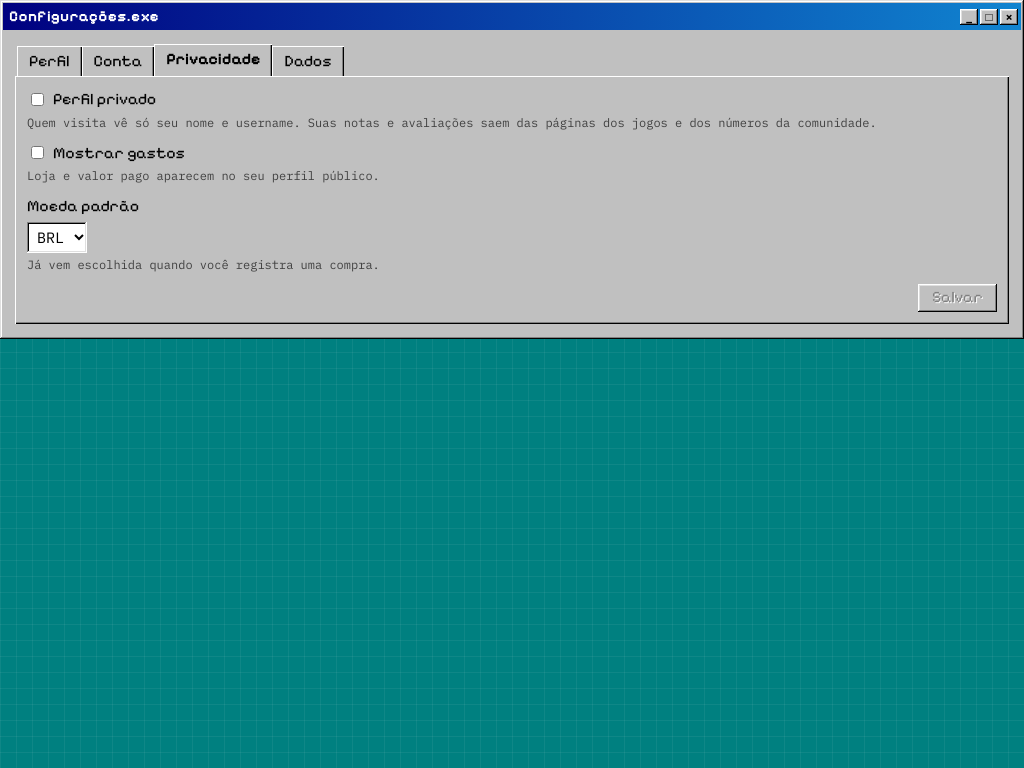
Test: SettingsView › Privacidade envia as três opções
Click the checkbox labelled "Perfil privado".
click(38, 100)  # box [31,93,44,106]
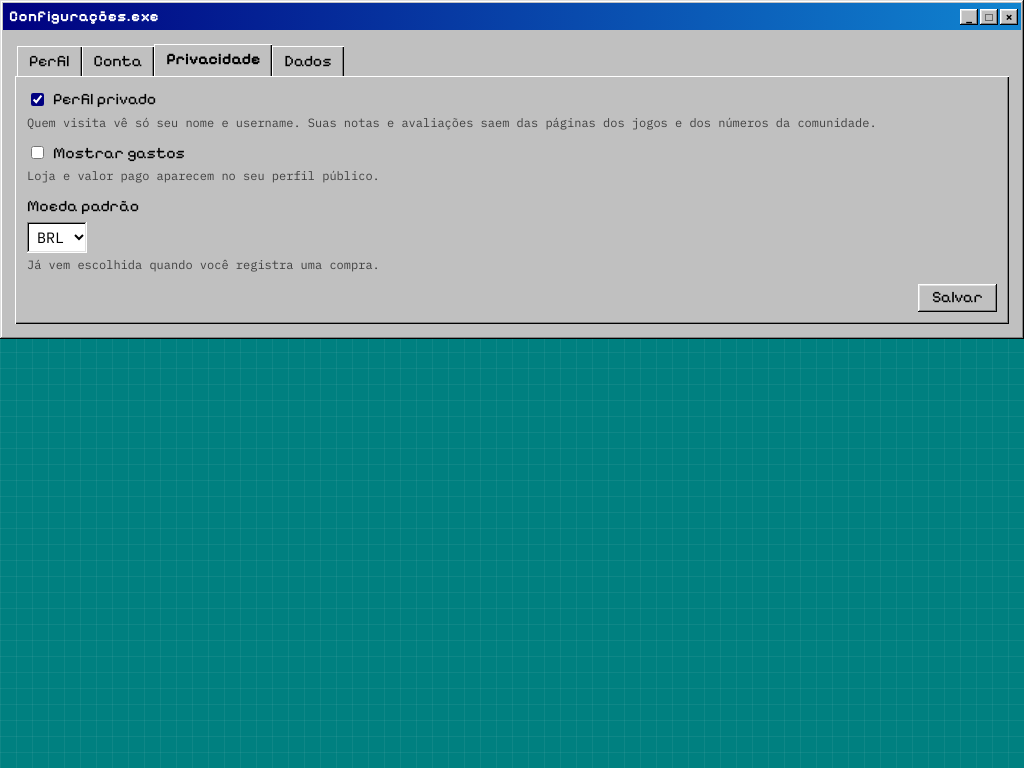
Submit the form, box [27,88,997,312]
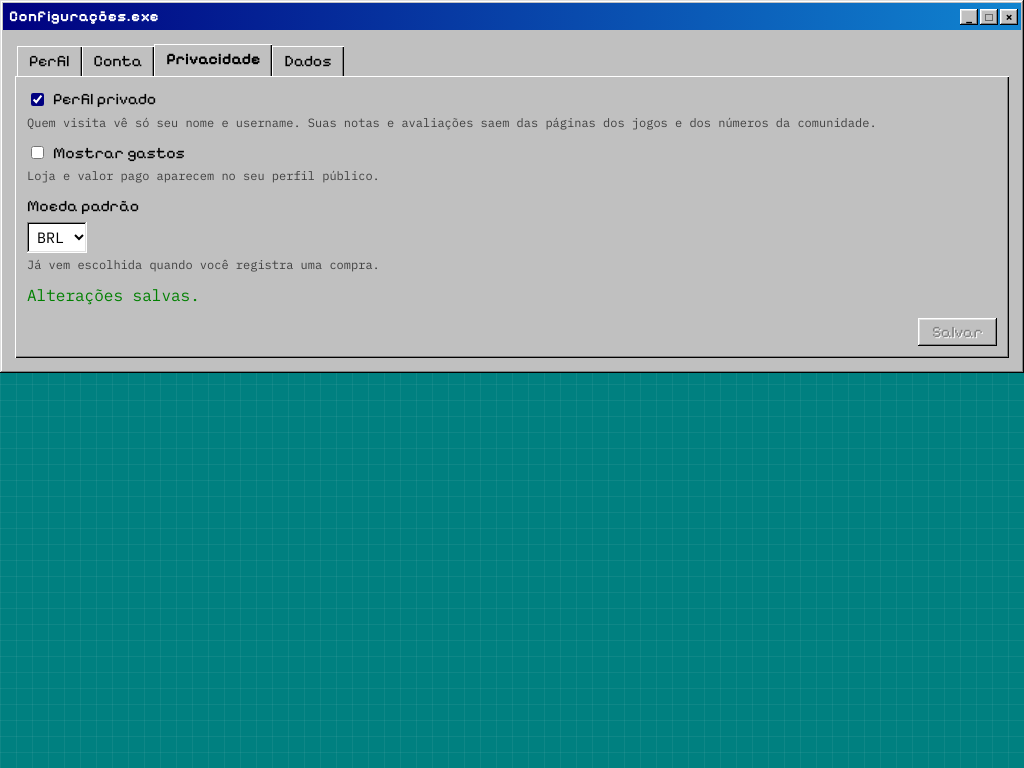
Expected: the text "Alterações salvas." is shown, [27,285,200,305]
